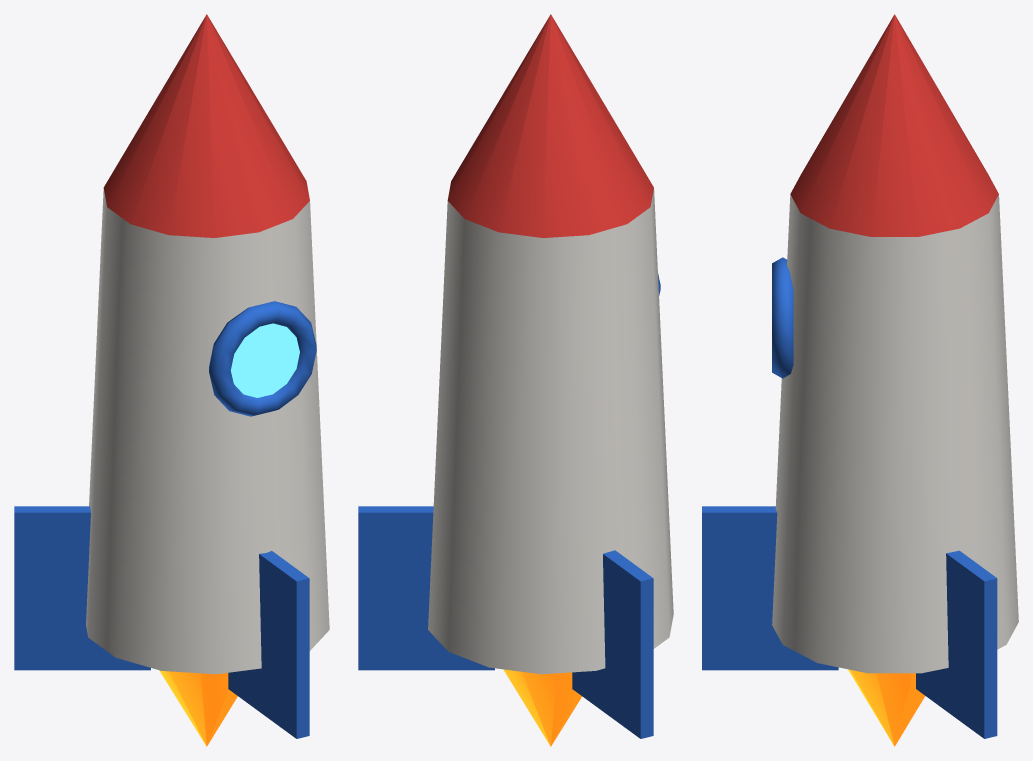
3 renders of one model, left to right at view 1: azimuth 30°, elevation 25°; view 2: azimuth 150°, elevation 25°; view 3: azimuth 270°, elevation 25°, orthographic.
Size of the model in its own units: 1.37 by 3.26 by 1.28.
